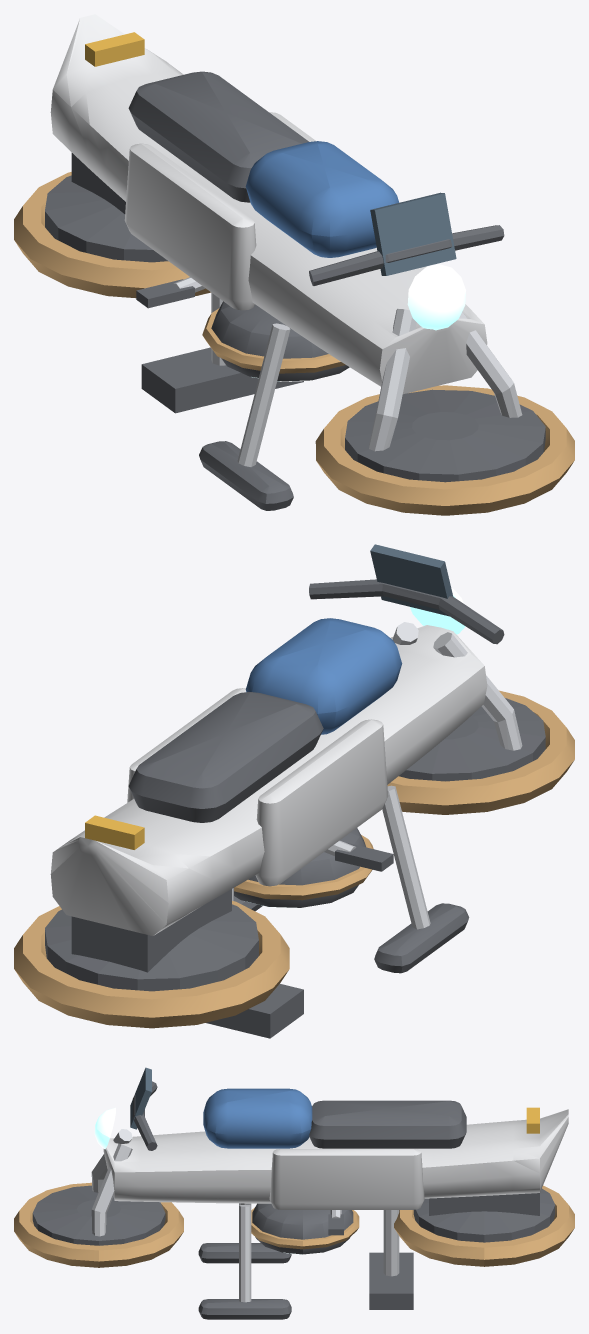
File: hover-transit-and-antigrav-fleet-hover-bike-d6384329__17070.glb
3 renders of one model, top to bottom at view 1: azimuth 30°, elevation 25°; view 2: azimuth 150°, elevation 25°; view 3: azimuth 270°, elevation 25°, orthographic. The views are drawn at different scales.
Visible parts, largest first — view 1: hover-bike, handlebar (×4); view 2: hover-bike, handlebar (×4); view 3: hover-bike, handlebar (×4).
Part boxes in pixels (<box>): hover-bike: <box>14,14,487,510</box>; handlebar (×4): <box>309,192,574,515</box>; hover-bike: <box>14,588,487,1038</box>; handlebar (×4): <box>309,544,574,814</box>; hover-bike: <box>94,1088,574,1319</box>; handlebar (×4): <box>14,1067,183,1267</box>.
Size of the model in its own units: 0.8401 by 1.05 by 2.53.
